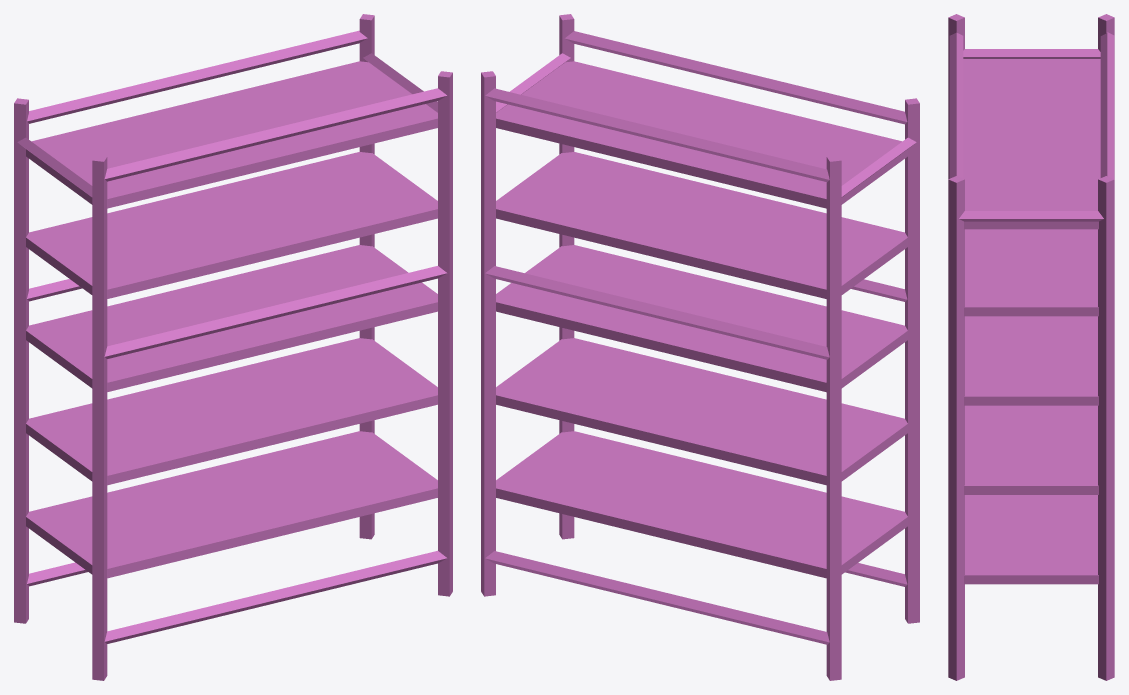
The model's file is ToolShelf.fbx.
The picture shows the model from 3 angles, left to right: view 1: azimuth 30°, elevation 25°; view 2: azimuth 150°, elevation 25°; view 3: azimuth 270°, elevation 25°; orthographic projection. The views are drawn at different scales.
Parts seen in each view (by area): view 1: ToolShelf; view 2: ToolShelf; view 3: ToolShelf.
Part boxes in pixels (x1,y1,x2,y2): ToolShelf: (14, 14, 452, 680); ToolShelf: (481, 14, 919, 680); ToolShelf: (948, 14, 1114, 680).
Bounding box in the file's own units: 216 × 297 × 90.
